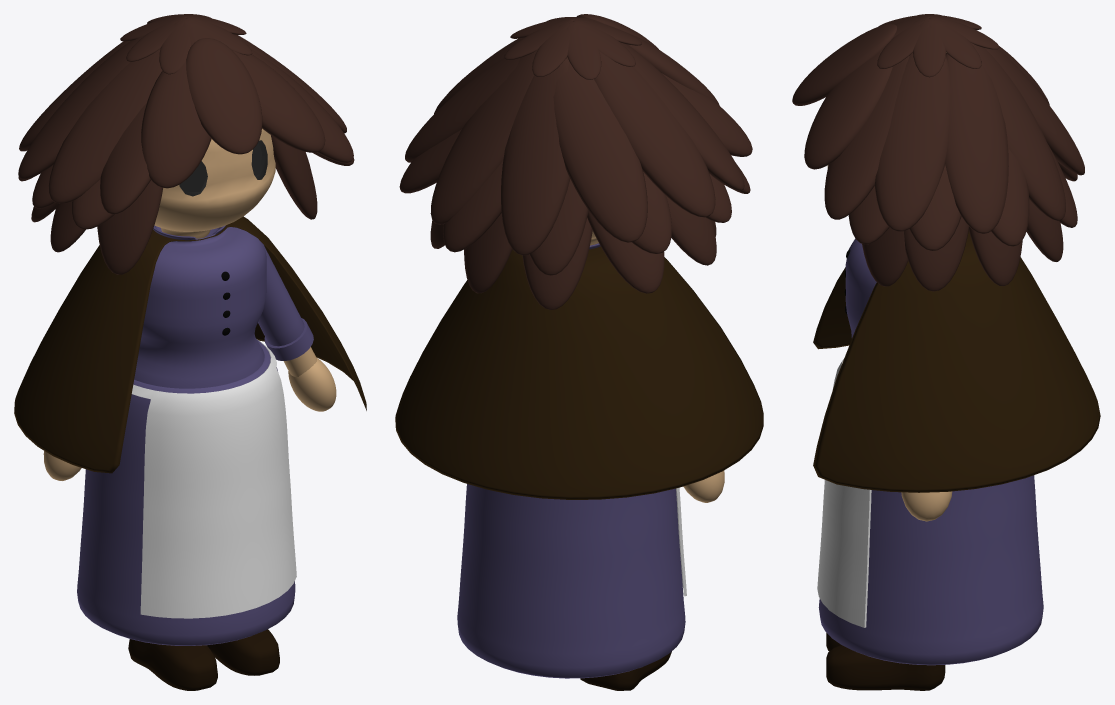
File: Witch.fbx
The picture shows the model from 3 angles, left to right: view 1: azimuth 30°, elevation 25°; view 2: azimuth 150°, elevation 25°; view 3: azimuth 270°, elevation 25°; orthographic projection. The views are drawn at different scales.
Parts seen in each view (by area): view 1: Hair, Apron, Cape, Shirt, Skirt, Head, Boot_L, Arm_R, Boot_R, Hand_R, Inside_Head, Hand_L; view 2: Hair, Cape, Skirt, Boot_L, Hand_L; view 3: Hair, Cape, Skirt, Apron, Boot_R, Shirt, Hand_R.
Part boxes in pixels (left/top/right/bottom): Hair: left=18, top=14, right=354, bottom=274; Apron: left=131, top=339, right=296, bottom=618; Cape: left=14, top=216, right=366, bottom=473; Shirt: left=134, top=225, right=266, bottom=388; Skirt: left=77, top=340, right=295, bottom=645; Head: left=154, top=128, right=275, bottom=238; Boot_L: left=128, top=639, right=217, bottom=690; Arm_R: left=258, top=247, right=313, bottom=360; Boot_R: left=207, top=629, right=279, bottom=675; Hand_R: left=288, top=357, right=336, bottom=411; Inside_Head: left=179, top=140, right=267, bottom=196; Hand_L: left=43, top=451, right=81, bottom=480; Hair: left=399, top=14, right=752, bottom=309; Cape: left=395, top=246, right=763, bottom=499; Skirt: left=457, top=484, right=685, bottom=678; Boot_L: left=580, top=651, right=671, bottom=690; Hand_L: left=683, top=470, right=724, bottom=502; Hair: left=792, top=14, right=1084, bottom=291; Cape: left=813, top=230, right=1100, bottom=492; Skirt: left=818, top=475, right=1043, bottom=665; Apron: left=817, top=359, right=871, bottom=627; Boot_R: left=826, top=644, right=945, bottom=690; Shirt: left=845, top=238, right=876, bottom=337; Hand_R: left=901, top=491, right=952, bottom=521.
Size of the model in its own units: 400 by 788 by 340.
